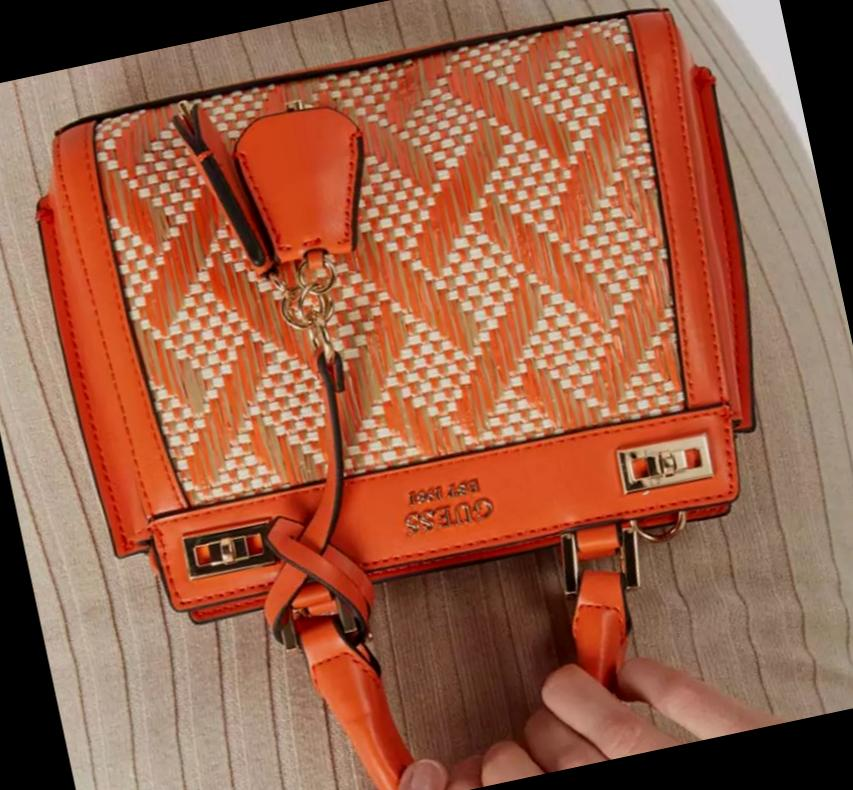GUESS: (402, 496, 495, 536)
